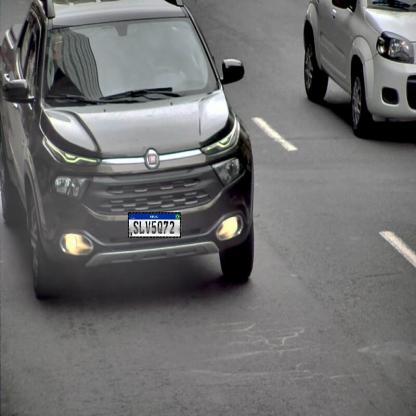PlacaM: (128, 212, 181, 238)
